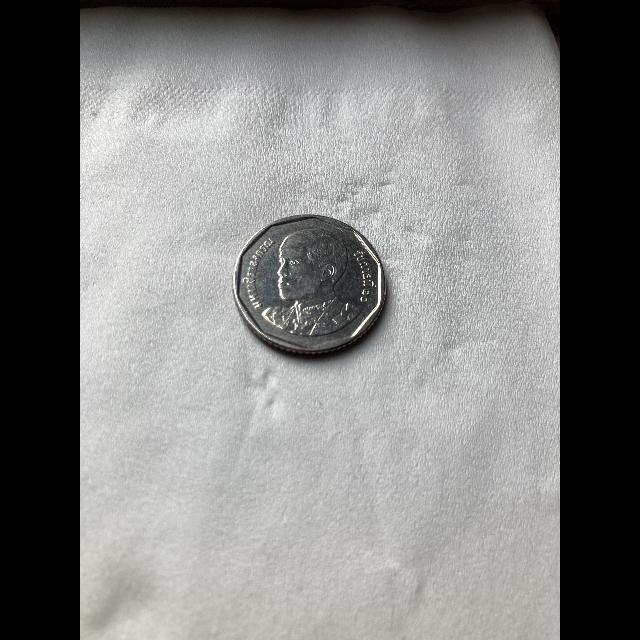5 Bath: (234, 211, 390, 363)
